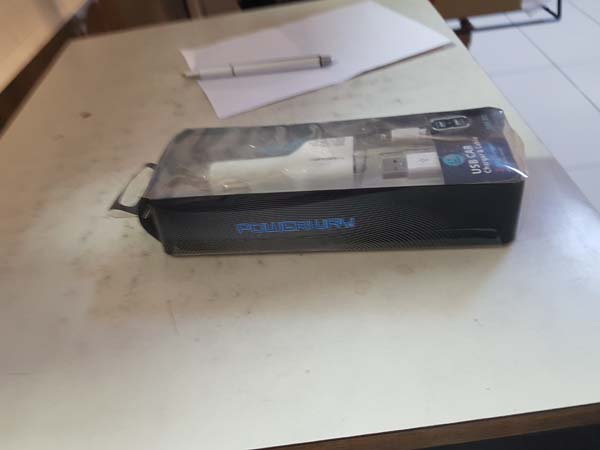usbcarcharger: (111, 103, 525, 268)
